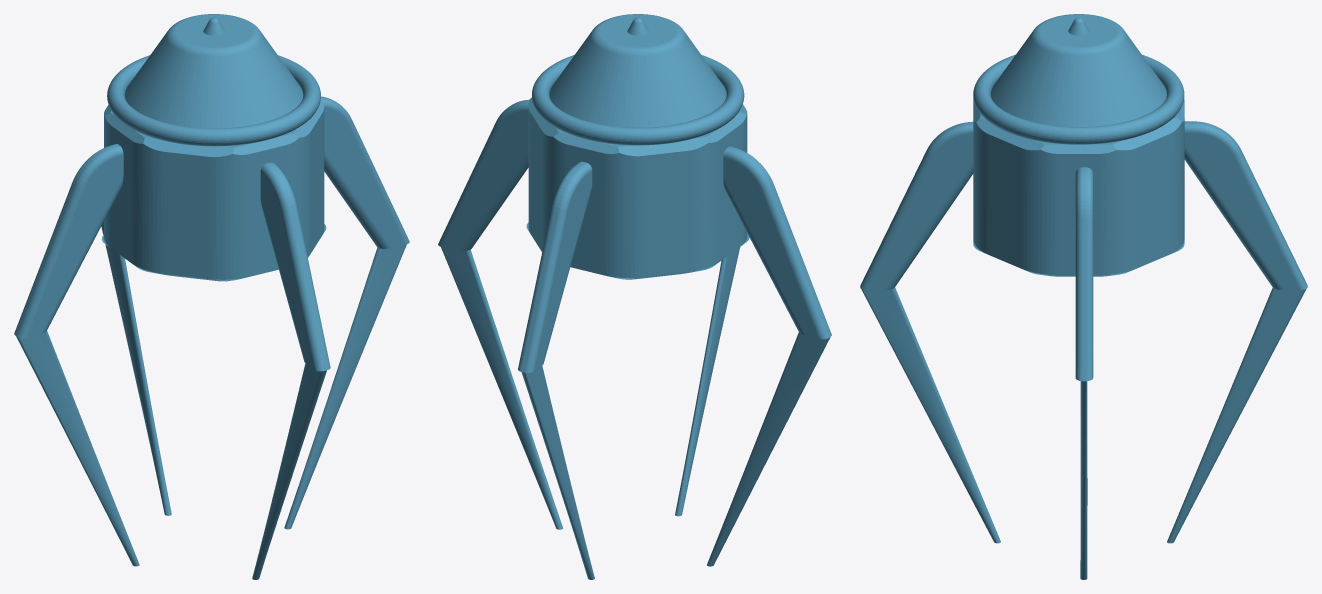
File: PlayerRobot.fbx
3 views of the same model, side by side, from view 1: azimuth 30°, elevation 25°; view 2: azimuth 150°, elevation 25°; view 3: azimuth 270°, elevation 25° (orthographic).
Parts seen in each view (by area): view 1: MeshBody23; view 2: MeshBody23; view 3: MeshBody23.
Boxes of the visible parts, x1=… form: MeshBody23: x1=14, y1=14, x2=409, y2=579; MeshBody23: x1=438, y1=14, x2=831, y2=579; MeshBody23: x1=860, y1=14, x2=1307, y2=579.
Size of the model in its own units: 127 by 164 by 127.
